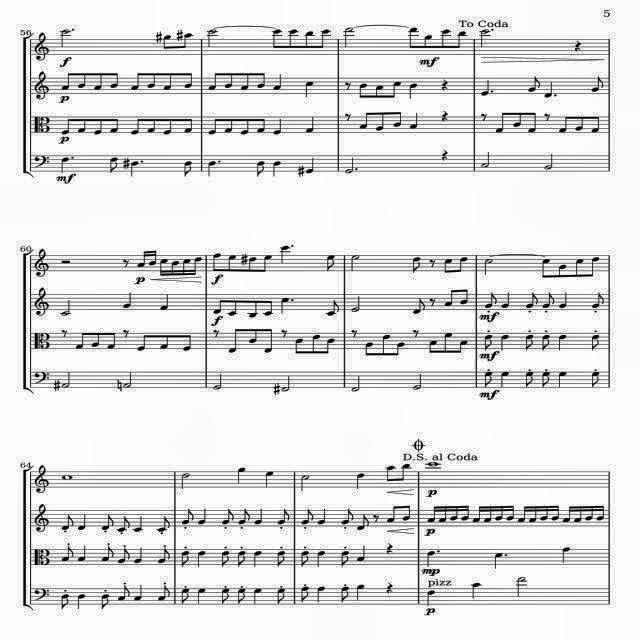Bass-clef: (32, 464, 52, 496), (32, 31, 52, 60), (31, 72, 51, 100), (34, 246, 50, 278), (32, 502, 50, 530), (34, 287, 50, 317)
Diez: (48, 378, 62, 394), (270, 382, 282, 398), (294, 165, 306, 179), (122, 155, 130, 169)
Eighth-note: (224, 326, 240, 358), (321, 298, 343, 320), (487, 110, 507, 134), (305, 330, 321, 358), (438, 328, 454, 356), (260, 326, 274, 356), (374, 332, 390, 358), (174, 333, 194, 353), (318, 26, 332, 52), (526, 74, 544, 94), (124, 118, 142, 138), (520, 290, 538, 310), (409, 298, 426, 318), (286, 28, 300, 52), (437, 26, 451, 50), (525, 110, 539, 134), (571, 256, 585, 280), (588, 73, 606, 91), (177, 71, 193, 91), (220, 71, 236, 91), (388, 110, 404, 130), (554, 114, 570, 134), (322, 252, 338, 272), (482, 292, 498, 312), (56, 514, 76, 530), (355, 512, 371, 532), (237, 70, 251, 92), (588, 256, 602, 278), (153, 332, 170, 350), (324, 337, 338, 358), (301, 28, 313, 52), (90, 117, 106, 135), (373, 110, 385, 134), (540, 291, 556, 309), (390, 342, 408, 358), (154, 516, 172, 532), (178, 507, 194, 525), (220, 508, 236, 526), (298, 508, 316, 524), (398, 506, 414, 524), (58, 547, 74, 565), (157, 548, 173, 566), (116, 585, 132, 603), (74, 70, 88, 90), (89, 72, 103, 92), (129, 71, 143, 91), (161, 72, 175, 92), (225, 254, 239, 274), (245, 298, 259, 318), (71, 330, 85, 350), (103, 330, 117, 350), (245, 324, 259, 344), (293, 336, 307, 356), (117, 546, 131, 566), (274, 588, 288, 608), (58, 72, 72, 91), (539, 257, 551, 279), (556, 259, 568, 281), (179, 118, 195, 134), (590, 292, 606, 308), (454, 338, 470, 354), (98, 514, 114, 530), (338, 508, 354, 524), (100, 546, 116, 562), (218, 551, 234, 567), (156, 586, 172, 602), (453, 31, 467, 49), (58, 118, 72, 136), (143, 117, 157, 135), (236, 119, 250, 137), (586, 115, 600, 133), (236, 508, 250, 526), (276, 507, 290, 525), (275, 550, 289, 568), (390, 79, 402, 99), (408, 27, 420, 47), (262, 254, 274, 274), (410, 255, 422, 275), (441, 256, 453, 276), (455, 255, 467, 275), (88, 330, 100, 350), (134, 332, 146, 352), (480, 332, 492, 352), (386, 464, 398, 484), (400, 462, 412, 482), (421, 33, 434, 51), (207, 118, 220, 136), (237, 587, 250, 605), (108, 154, 120, 173), (106, 72, 120, 88), (370, 86, 386, 100), (73, 118, 87, 134), (105, 116, 119, 132), (220, 118, 234, 134), (253, 118, 267, 134), (116, 516, 130, 532), (146, 72, 158, 90), (254, 71, 266, 89), (271, 29, 283, 47), (358, 81, 370, 99), (356, 113, 368, 131), (572, 114, 584, 132), (262, 299, 274, 317), (444, 289, 456, 307), (540, 334, 552, 352), (179, 551, 191, 569), (236, 550, 248, 568), (338, 550, 350, 568), (340, 586, 352, 604), (59, 594, 72, 610), (207, 72, 217, 92), (212, 252, 222, 272), (299, 586, 309, 606), (458, 289, 469, 307), (387, 505, 398, 523), (161, 118, 173, 134), (512, 112, 524, 128), (254, 160, 266, 176), (182, 160, 194, 176), (226, 300, 238, 316), (362, 341, 374, 357), (524, 336, 536, 352), (590, 336, 602, 352), (482, 371, 494, 387), (300, 549, 308, 571), (183, 32, 193, 49), (427, 340, 439, 354), (162, 34, 172, 50), (212, 300, 222, 316), (542, 372, 552, 388), (101, 594, 111, 610), (181, 589, 191, 605), (248, 256, 256, 274), (526, 372, 534, 388), (592, 372, 600, 388), (222, 588, 230, 604)
Eighth-rest: (120, 328, 132, 339), (412, 329, 424, 339), (428, 297, 437, 307), (58, 329, 68, 338), (350, 328, 360, 337), (479, 112, 486, 124), (122, 258, 130, 268), (428, 259, 436, 269), (544, 112, 552, 121), (212, 328, 220, 337), (280, 328, 288, 337), (344, 112, 352, 120), (372, 514, 380, 522)
Full-note: (61, 474, 75, 482), (426, 461, 440, 467)
Half-note: (408, 372, 428, 396), (56, 298, 74, 318), (340, 25, 356, 47), (346, 374, 362, 396), (348, 253, 364, 274), (210, 372, 226, 392), (514, 576, 530, 596), (205, 28, 219, 48), (541, 151, 555, 169), (60, 372, 74, 390), (58, 28, 70, 48), (478, 28, 490, 48), (342, 155, 353, 175), (300, 473, 312, 491), (122, 372, 134, 388), (282, 376, 294, 392), (351, 296, 361, 314), (480, 153, 490, 169), (482, 258, 492, 274), (181, 472, 191, 488)
Quarter-note: (298, 78, 318, 98), (261, 468, 279, 489), (354, 544, 371, 566), (350, 473, 370, 491), (196, 548, 212, 570), (134, 544, 148, 568), (270, 72, 286, 92), (194, 586, 210, 606), (276, 243, 290, 265), (156, 294, 172, 312), (76, 513, 92, 531), (499, 370, 513, 390), (235, 464, 249, 484), (196, 507, 210, 527), (559, 546, 573, 566), (556, 333, 570, 352), (250, 550, 266, 566), (133, 584, 147, 602), (314, 584, 328, 602), (304, 114, 316, 134), (278, 296, 290, 316), (498, 332, 510, 352), (252, 586, 264, 606), (316, 548, 328, 568), (424, 548, 436, 568), (427, 588, 439, 608), (470, 580, 482, 600), (76, 544, 88, 564), (558, 369, 570, 388), (270, 160, 282, 178), (556, 293, 568, 311), (132, 516, 144, 534), (356, 584, 368, 602), (492, 551, 504, 569), (544, 78, 554, 98), (273, 116, 283, 136), (254, 506, 264, 526), (317, 508, 327, 528), (501, 293, 512, 311), (408, 82, 420, 98), (304, 158, 316, 174), (74, 594, 86, 610), (480, 77, 490, 95), (207, 160, 217, 176), (410, 112, 418, 128), (130, 160, 138, 176), (60, 156, 68, 172), (124, 292, 132, 308)
Quarter-rest: (382, 580, 398, 596), (382, 541, 398, 555), (440, 79, 452, 93), (438, 109, 449, 123), (439, 150, 449, 162), (574, 40, 582, 52)
Sixteenth-note: (133, 250, 147, 270), (423, 506, 437, 526), (594, 502, 606, 524), (515, 505, 527, 525), (192, 257, 204, 275), (584, 503, 596, 521), (159, 258, 169, 278), (483, 504, 493, 524), (494, 504, 504, 524), (505, 502, 515, 522), (528, 504, 538, 524), (538, 504, 550, 520), (561, 506, 573, 522), (148, 249, 158, 267), (181, 258, 191, 276), (461, 504, 471, 522), (550, 504, 560, 522), (575, 505, 585, 523), (438, 506, 449, 522), (472, 506, 483, 522), (450, 505, 460, 521), (172, 259, 180, 275)
